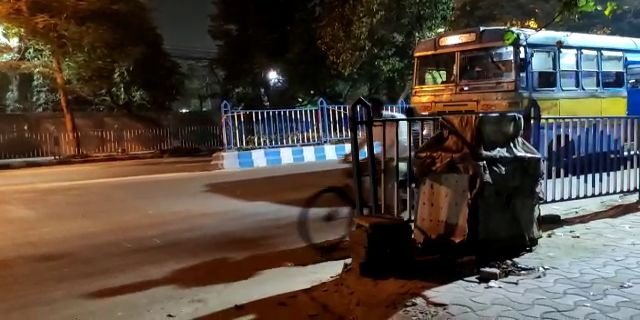Bus: (407, 28, 628, 188)
Cycle: (288, 118, 431, 250)
